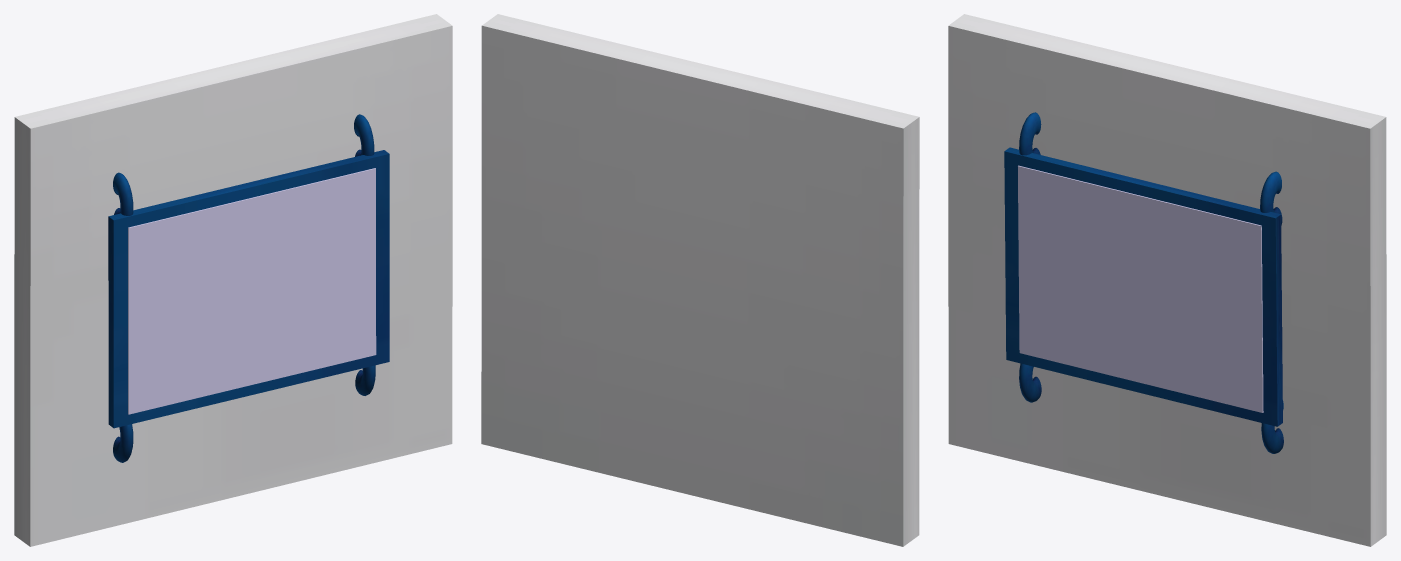
The model's file is pantalla.obj.
The picture shows the model from 3 angles, left to right: view 1: azimuth 30°, elevation 25°; view 2: azimuth 150°, elevation 25°; view 3: azimuth 330°, elevation 25°; orthographic projection.
Visible parts, largest first — view 1: pTorus10; view 2: pTorus10; view 3: pTorus10.
Part boxes in pixels (x1,y1,x2,y2): pTorus10: [14, 14, 452, 546]; pTorus10: [481, 14, 919, 546]; pTorus10: [948, 14, 1386, 546].
Bounding box in the file's own units: 7.27 × 6.89 × 0.9746.
Materials: 4 (4 with a texture image).
